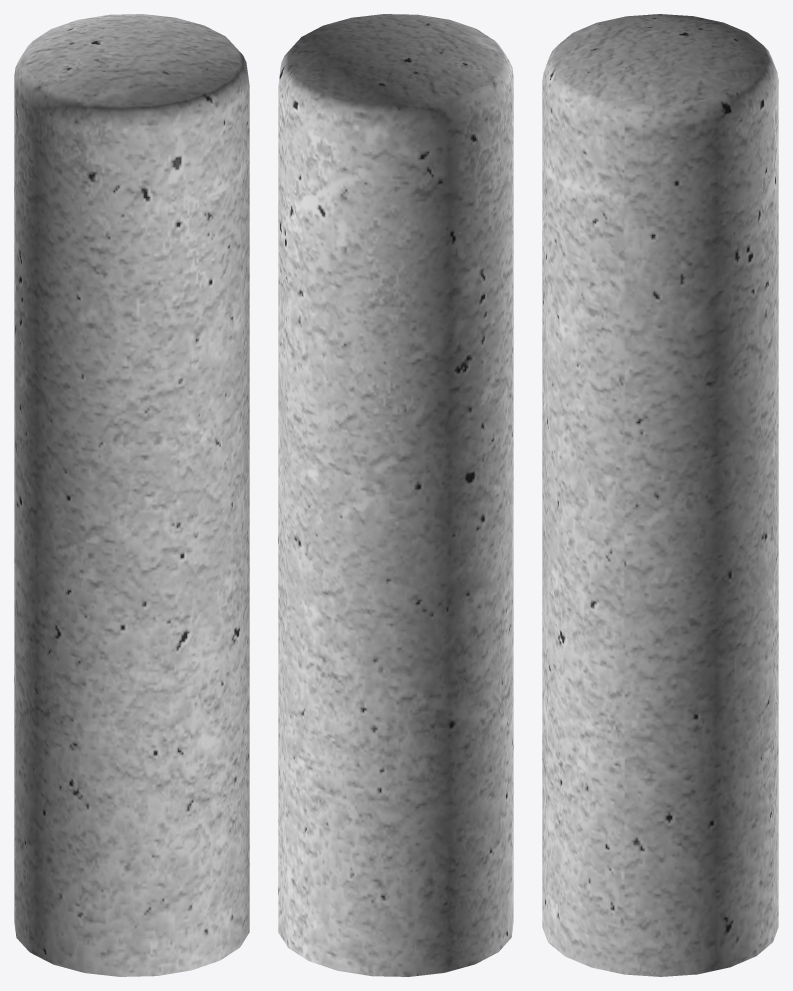
File: Poste.obj
3 views of the same model, side by side, from view 1: azimuth 30°, elevation 25°; view 2: azimuth 150°, elevation 25°; view 3: azimuth 270°, elevation 25° (orthographic).
Visible parts, largest first — view 1: 01; view 2: 01; view 3: 01.
Boxes of the visible parts, x1,y1,x2,y2 form: 01: (14, 14, 249, 976); 01: (278, 14, 513, 976); 01: (542, 14, 778, 976).
Bounding box in the file's own units: 2.1 × 8.64 × 2.1.
